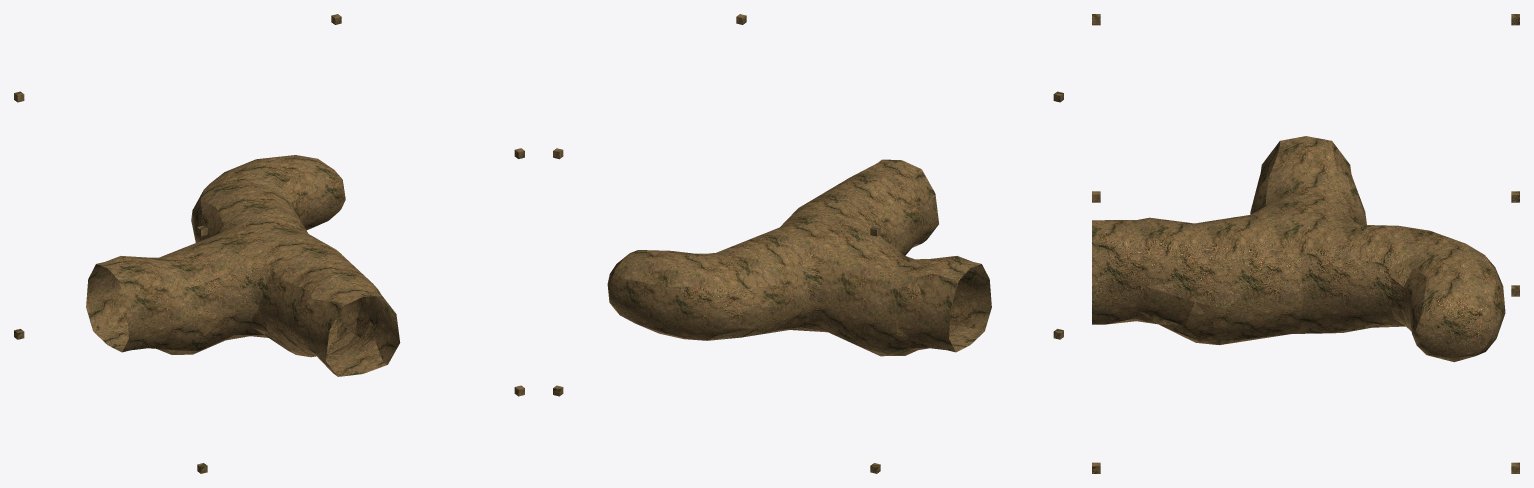
File: lba_2b.glb
3 views of the same model, side by side, from view 1: azimuth 30°, elevation 25°; view 2: azimuth 150°, elevation 25°; view 3: azimuth 270°, elevation 25° (orthographic). The views are drawn at different scales.
Parts seen in each view (by area): view 1: lba_2b; view 2: lba_2b; view 3: lba_2b.
Boxes of the visible parts, x1,y1,x2,y2 form: lba_2b: (14,14,524,473); lba_2b: (553,14,1063,473); lba_2b: (1092,14,1519,473).
Bounding box in the file's own units: 15 × 10.8 × 15.
Materials: 1 (1 with a texture image).
